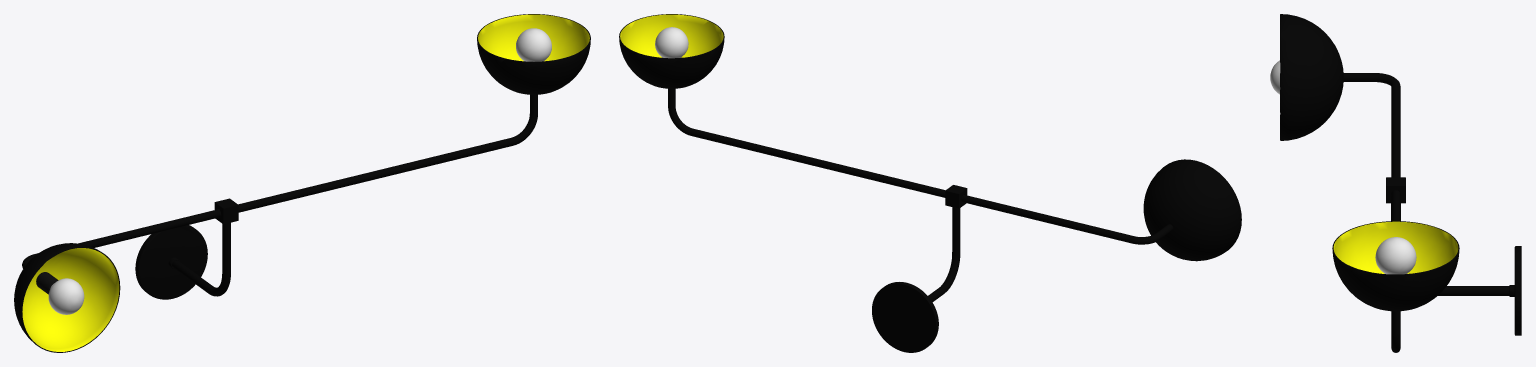
The model's file is designconnected-beaubien-double-shade-wall-lamp-9035.optimized.glb.
3 renders of one model, left to right at view 1: azimuth 30°, elevation 25°; view 2: azimuth 150°, elevation 25°; view 3: azimuth 270°, elevation 25°, orthographic. The views are drawn at different scales.
Visible parts, largest first — view 1: Lambert_et_Fils_Beaubien_Wall_Double_Shade_mat1; view 2: Lambert_et_Fils_Beaubien_Wall_Double_Shade_mat1; view 3: Lambert_et_Fils_Beaubien_Wall_Double_Shade_mat1.
Part boxes in pixels (x1=…): Lambert_et_Fils_Beaubien_Wall_Double_Shade_mat1: x1=14, y1=14, x2=590, y2=352; Lambert_et_Fils_Beaubien_Wall_Double_Shade_mat1: x1=619, y1=14, x2=1241, y2=352; Lambert_et_Fils_Beaubien_Wall_Double_Shade_mat1: x1=1270, y1=14, x2=1521, y2=352.
Size of the model in its own units: 1.12 by 0.4061 by 0.356.
